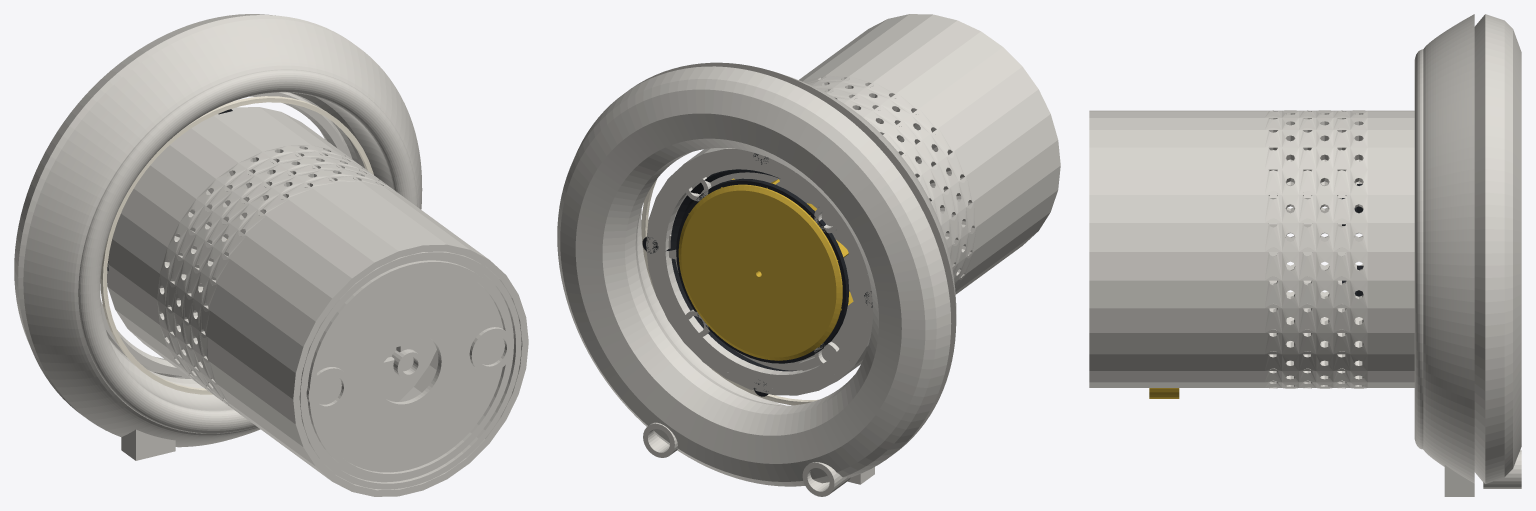
Rendered from VORTEX_100_Full_Assembly.obj.
3 views of the same model, side by side, from view 1: azimuth 30°, elevation 25°; view 2: azimuth 150°, elevation 25°; view 3: azimuth 270°, elevation 25° (orthographic). The views are drawn at different scales.
Visible parts, largest first — view 1: Base_Pedestal_Enclosure, Ring_Airfoil_Front, Ring_Airfoil_Back, Halo_Ring_Lightguide; view 2: Ring_Airfoil_Back, Base_Pedestal_Enclosure, Centrifugal_Impeller_11Blade, Ring_Airfoil_Front, Volute_Diffuser_Plenum, Halo_Ring_Lightguide; view 3: Base_Pedestal_Enclosure, Ring_Airfoil_Front, Ring_Airfoil_Back.
Boxes of the visible parts, x1=… form: Base_Pedestal_Enclosure: x1=107, y1=107, x2=528, y2=496; Ring_Airfoil_Front: x1=23, y1=19, x2=422, y2=460; Ring_Airfoil_Back: x1=14, y1=14, x2=352, y2=413; Halo_Ring_Lightguide: x1=100, y1=96, x2=373, y2=394; Ring_Airfoil_Back: x1=557, y1=66, x2=951, y2=496; Base_Pedestal_Enclosure: x1=646, y1=14, x2=1060, y2=395; Centrifugal_Impeller_11Blade: x1=678, y1=178, x2=853, y2=360; Ring_Airfoil_Front: x1=628, y1=62, x2=956, y2=484; Volute_Diffuser_Plenum: x1=642, y1=153, x2=872, y2=396; Halo_Ring_Lightguide: x1=641, y1=179, x2=818, y2=405; Base_Pedestal_Enclosure: x1=1089, y1=110, x2=1414, y2=388; Ring_Airfoil_Front: x1=1414, y1=14, x2=1474, y2=496; Ring_Airfoil_Back: x1=1474, y1=14, x2=1521, y2=488.
Size of the model in its own units: 220 by 220 by 202.
